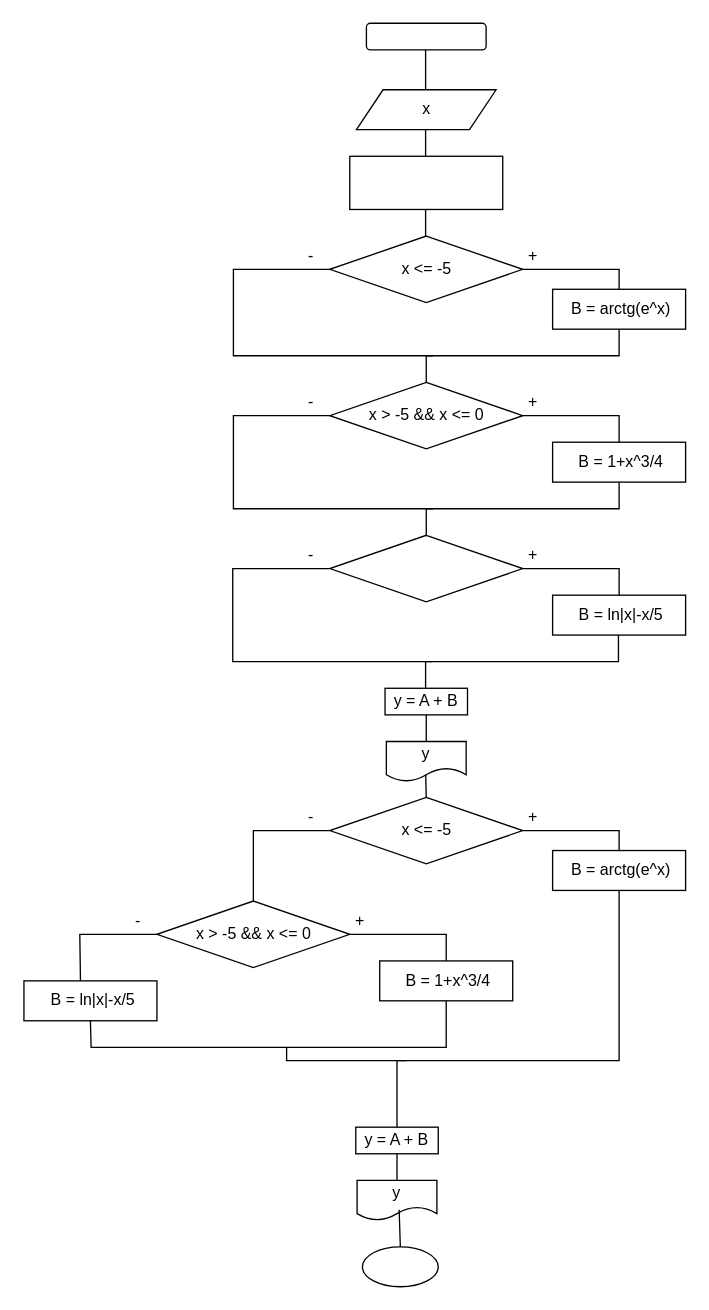
This 709x1310 diagram has some shape labels left out. The box of each missing label's shape, as (x1, y1, x2, y2) in pixels:
A = x * x * sin(x / 2): (348, 155, 503, 209)
x > 0: (329, 534, 523, 602)
кінець: (361, 1246, 438, 1287)
початок: (365, 22, 486, 50)
